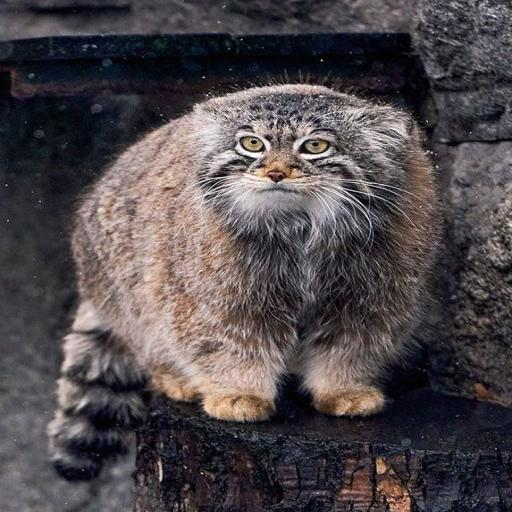manul: (52, 84, 438, 478)
